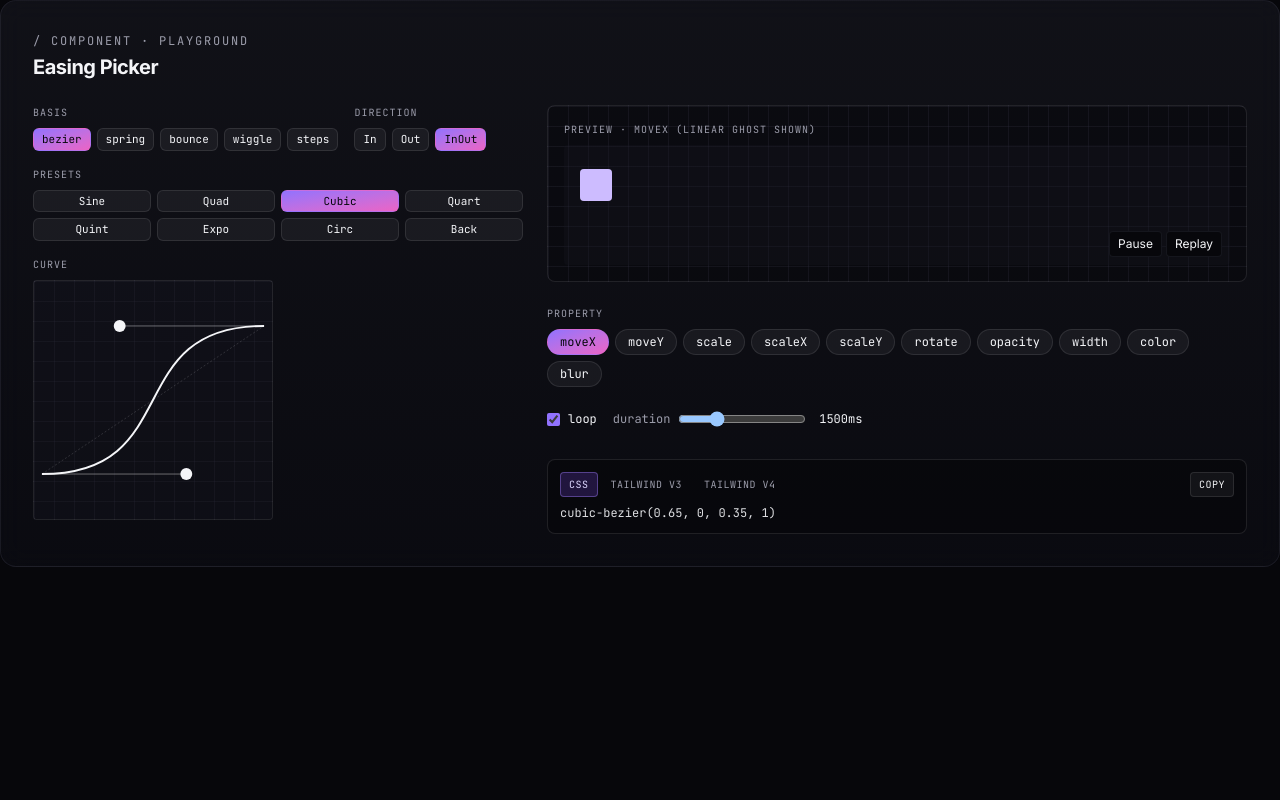
Test: EasingPlayground › switching format tab changes the displayed code snippet
Click the button "Tailwind v3": (646, 484) [602, 472, 691, 497]
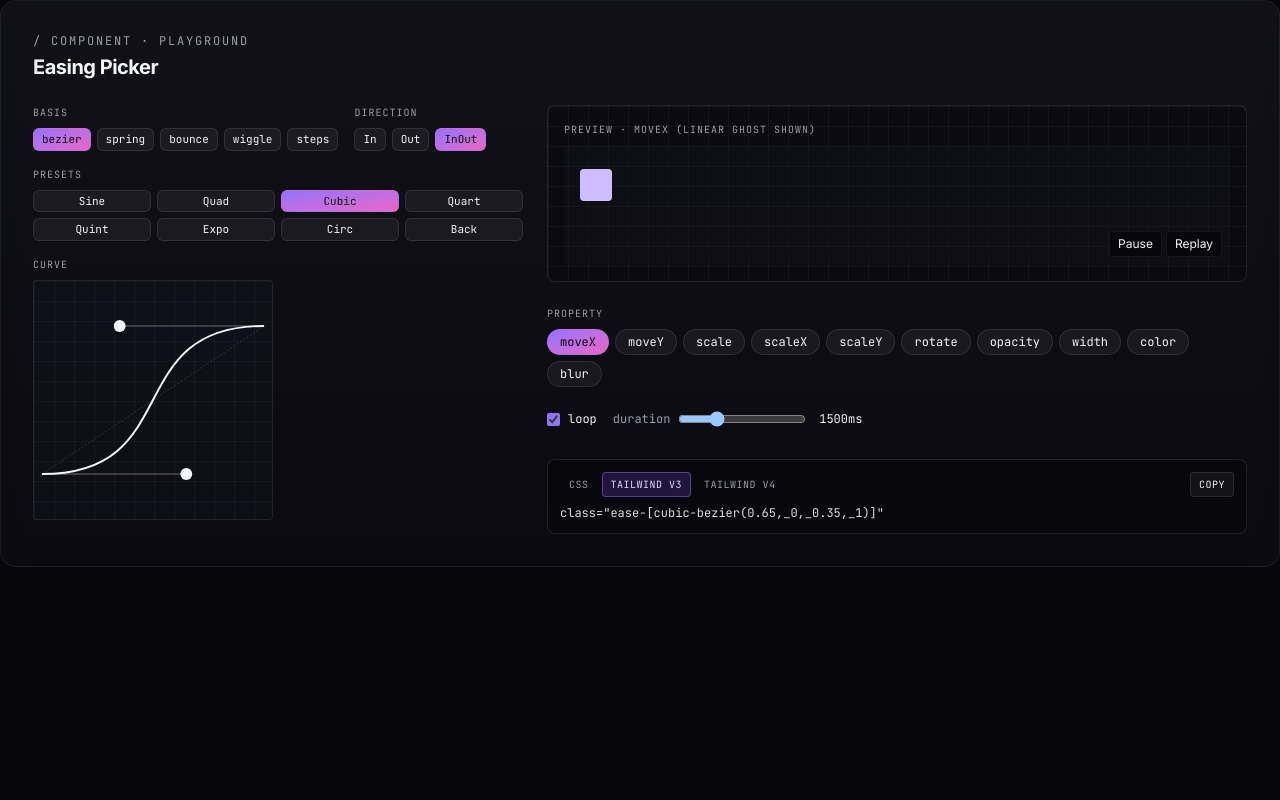
Check: the text "class=\"ease-[cubic-bezier(0.65,_0,_0.35,_1)]\"" is shown, box [560, 505, 884, 521]
Click the button "Tailwind v4": (740, 484) [695, 472, 784, 497]
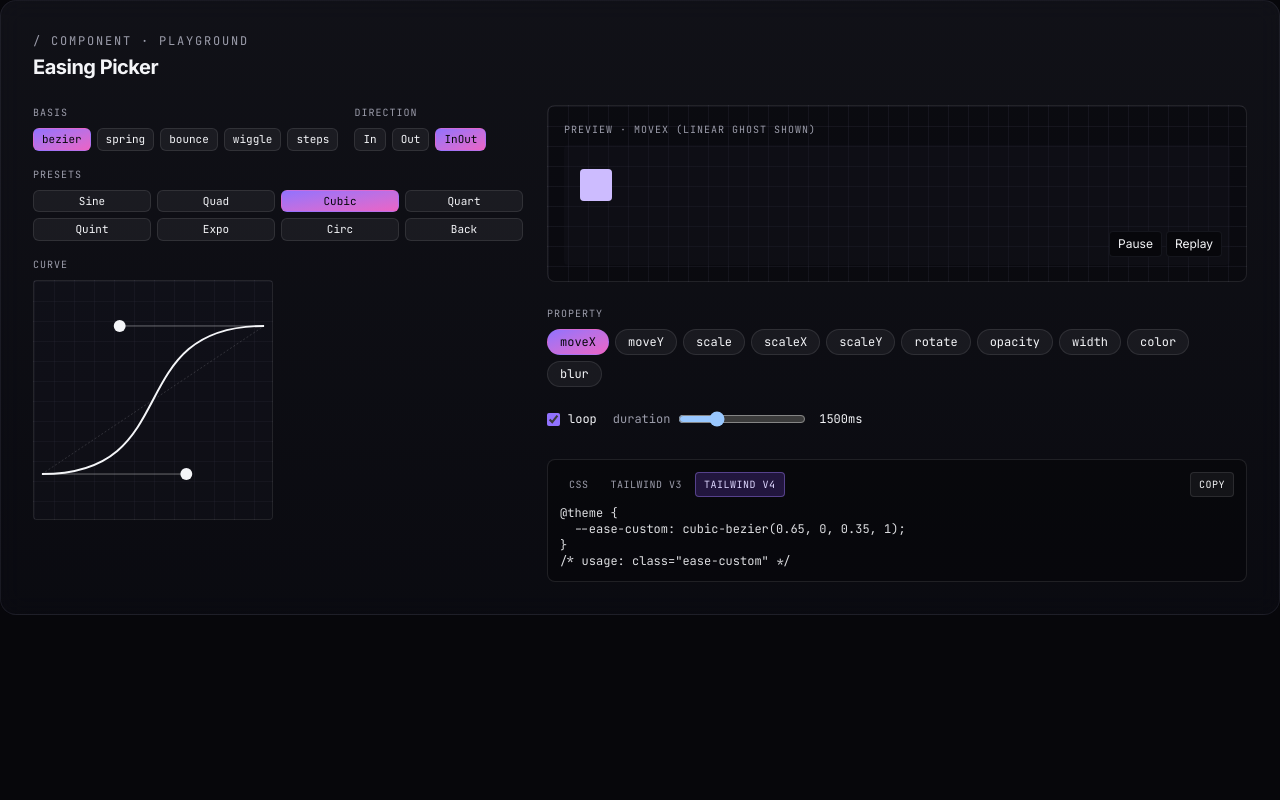
Check: the text "@theme" is shown, box [560, 505, 906, 569]
